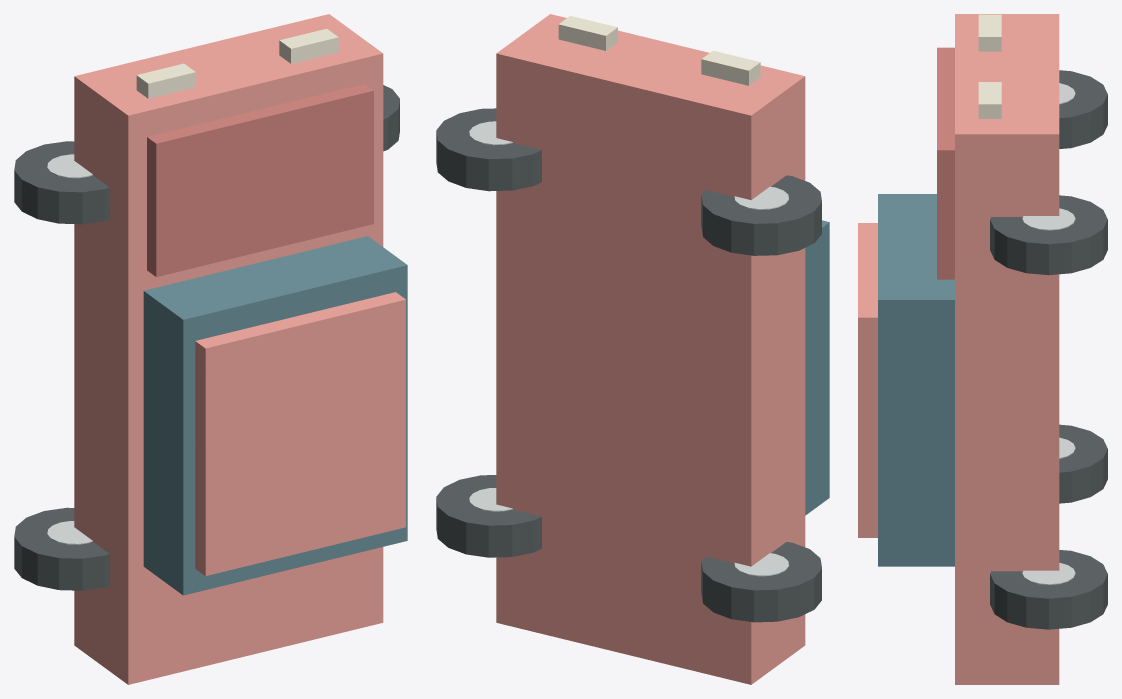
File: compact-car.glb
The picture shows the model from 3 angles, left to right: view 1: azimuth 30°, elevation 25°; view 2: azimuth 150°, elevation 25°; view 3: azimuth 270°, elevation 25°; orthographic projection. The views are drawn at different scales.
Parts seen in each view (by area): view 1: car_body, car_roof, car_hood, car_cabin, wheel_0, wheel_2, headlight_1, headlight_0, wheel_3, rim_2, rim_0; view 2: car_body, car_cabin, wheel_2, wheel_0, wheel_1, wheel_3, headlight_0, headlight_1, rim_0, rim_2, rim_1, rim_3; view 3: car_body, car_cabin, wheel_1, wheel_3, car_roof, car_hood, wheel_0, wheel_2, headlight_0, headlight_1, rim_1, rim_3.
Boxes of the visible parts, x1,y1,x2,y2 form: car_body: [74, 14, 383, 684]; car_roof: [195, 292, 405, 576]; car_hood: [147, 84, 373, 276]; car_cabin: [143, 236, 407, 595]; wheel_0: [14, 507, 109, 590]; wheel_2: [14, 141, 109, 224]; headlight_1: [279, 28, 338, 63]; headlight_0: [136, 63, 195, 98]; wheel_3: [383, 85, 399, 151]; rim_2: [47, 154, 92, 178]; rim_0: [47, 521, 92, 544]; car_body: [496, 14, 805, 684]; car_cabin: [805, 220, 829, 515]; wheel_2: [701, 175, 821, 255]; wheel_0: [701, 542, 821, 622]; wheel_1: [436, 475, 541, 557]; wheel_3: [436, 108, 541, 191]; headlight_0: [701, 50, 760, 85]; headlight_1: [558, 16, 617, 50]; rim_0: [734, 553, 788, 576]; rim_2: [734, 186, 788, 209]; rim_1: [469, 488, 512, 511]; rim_3: [469, 121, 512, 145]; car_body: [955, 14, 1059, 684]; car_cabin: [878, 194, 954, 566]; wheel_1: [990, 550, 1107, 629]; wheel_3: [990, 195, 1107, 275]; car_roof: [858, 223, 877, 537]; car_hood: [937, 47, 954, 279]; wheel_0: [1059, 424, 1107, 503]; wheel_2: [1059, 70, 1107, 148]; headlight_0: [978, 14, 1001, 51]; headlight_1: [978, 82, 1001, 118]; rim_1: [1022, 562, 1075, 584]; rim_3: [1022, 208, 1075, 230].
Size of the model in its own units: 2.18 by 3.29 by 1.32.
